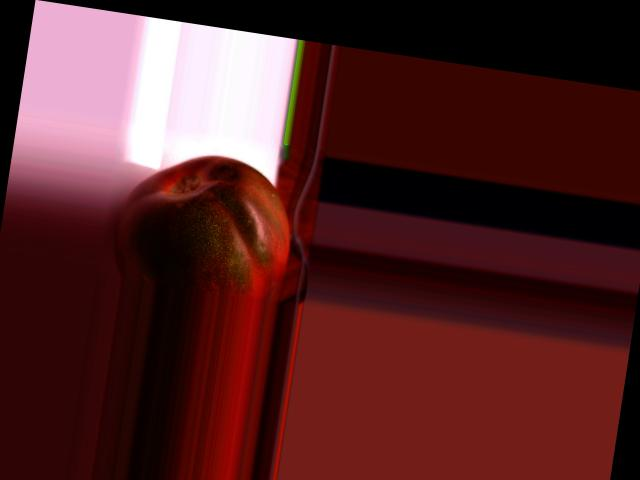tomato: (109, 143, 302, 303)
